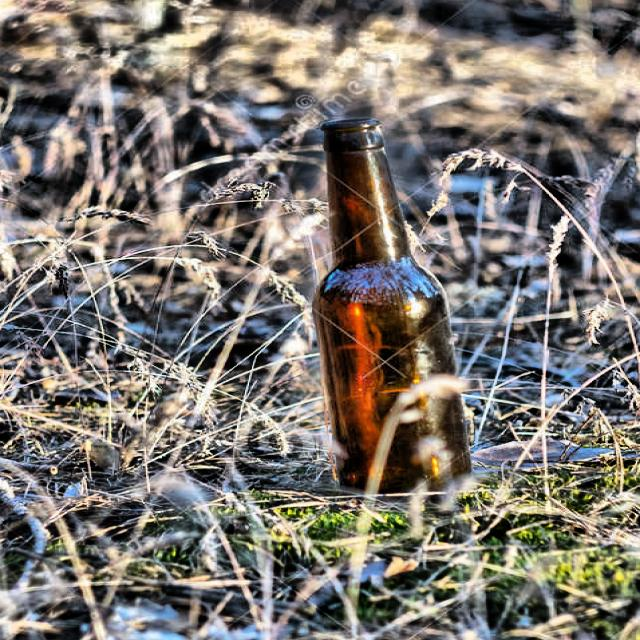glass: (314, 120, 476, 503)
